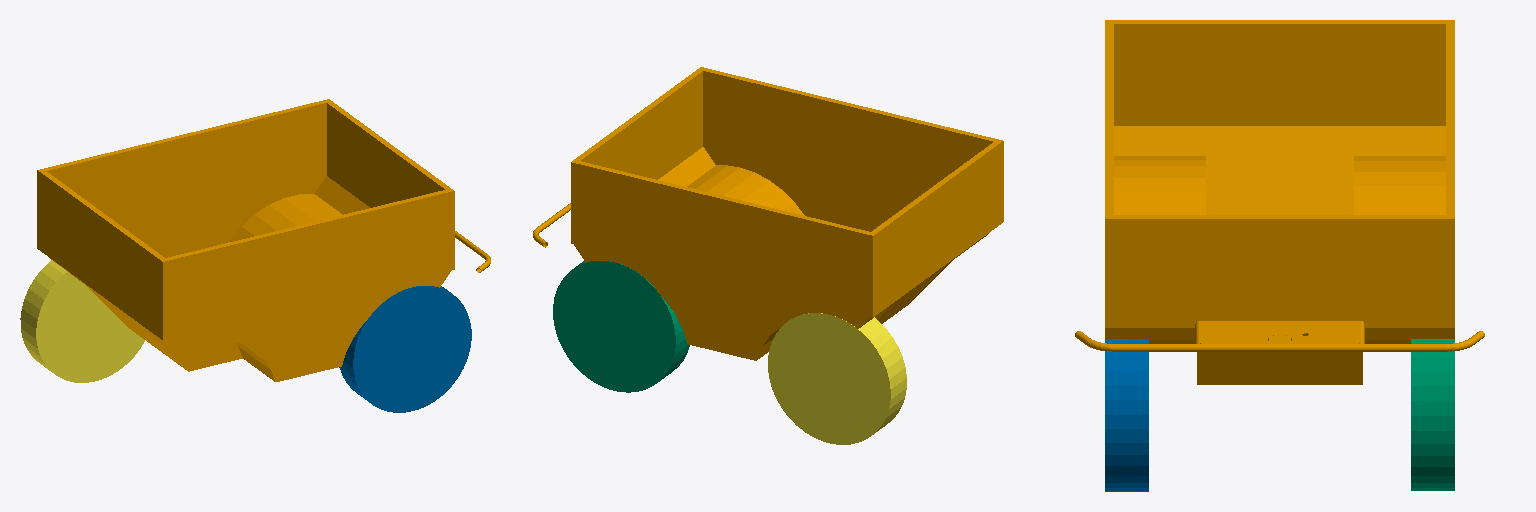
robot.urdf — nav_simplified_model:
<?xml version="1.0" encoding="utf-8"?>
<robot name="nav_simplified_model">
  <!-- Updated URDF with mass, inertia, collision volumes, wheel friction and constraints -->
  <link name="body">
    <inertial>
      <origin xyz="0 0 -0.05" rpy="0 0 0"/>
      <mass value="20"/>
      <inertia ixx="0.5" ixy="0" ixz="0" iyy="0.8" iyz="0" izz="0.5"/>
    </inertial>
    <visual>
      <geometry><mesh filename="package://nav_simplified_model/meshes/base_link.STL"/></geometry>
    </visual>
    <collision>
      <origin xyz="0 0 0.1" rpy="0 0 0"/>
      <geometry><box size="1.0 0.7 0.3"/></geometry>
    </collision>
  </link>

  <!-- ROS navigation friendly base frame -->
  <link name="base_link"/>
  <joint name="body_to_base_link_joint" type="fixed">
    <origin xyz="0 0 0" rpy="0 0 0"/>
    <parent link="body"/>
    <child link="base_link"/>
  </joint>

  <!-- wheel template values -->
  <!-- Each wheel has friction, rolling resistance, steering constraint -->

  <!-- 前左轮 (wheel1) -->
  <link name="wheel1_Link">
    <inertial>
      <origin xyz="0 0 0" rpy="0 0 0"/>
      <mass value="2.5"/>
      <inertia ixx="0.01" ixy="0" ixz="0" iyy="0.02" iyz="0" izz="0.01"/>
    </inertial>
    <visual><geometry><mesh filename="package://nav_simplified_model/meshes/wheel1_Link.STL"/></geometry></visual>
    <collision>
      <origin xyz="0 0 0" rpy="1.5708 0 0"/>
      <!-- 修正：碰撞半径改为0.26m -->
      <geometry><cylinder radius="0.26" length="0.06"/></geometry>
    </collision>
  </link>

  <joint name="wheel1_joint" type="continuous">
    <origin xyz="0.45474 0.4775 0" rpy="0 0 0"/>
    <parent link="body"/>
    <child link="wheel1_Link"/>
    <!-- 修正：右侧车轮axis应该是正方向 -->
    <axis xyz="0 1 0"/>
    <limit effort="100" velocity="20"/>
    <dynamics damping="0.01" friction="0.0"/>
  </joint>

  <!-- 后左轮 (wheel2) -->
  <link name="wheel2_Link">
    <inertial>
      <origin xyz="0 0 0" rpy="0 0 0"/>
      <mass value="2.5"/>
      <inertia ixx="0.01" ixy="0" ixz="0" iyy="0.02" iyz="0" izz="0.01"/>
    </inertial>
    <visual><geometry><mesh filename="package://nav_simplified_model/meshes/wheel2_Link.STL"/></geometry></visual>
    <collision>
      <origin xyz="0 0 0" rpy="1.5708 0 0"/>
      <!-- 修正：碰撞半径改为0.26m -->
      <geometry><cylinder radius="0.26" length="0.06"/></geometry>
    </collision>
  </link>

  <joint name="wheel2_joint" type="continuous">
    <origin xyz="-0.45372 0.4775 0" rpy="0 0 0"/>
    <parent link="body"/>
    <child link="wheel2_Link"/>
    <!-- 修正：右侧车轮axis应该是正方向 -->
    <axis xyz="0 1 0"/>
    <limit effort="100" velocity="20"/>
    <dynamics damping="0.01" friction="0.0"/>
  </joint>

  <!-- 前右轮 (wheel3) -->
  <link name="wheel3_Link">
    <inertial>
      <origin xyz="0 0 0" rpy="0 0 0"/>
      <mass value="2.5"/>
      <inertia ixx="0.01" ixy="0" ixz="0" iyy="0.02" iyz="0" izz="0.01"/>
    </inertial>
    <visual><geometry><mesh filename="package://nav_simplified_model/meshes/wheel3_Link.STL"/></geometry></visual>
    <collision>
      <origin xyz="0 0 0" rpy="1.5708 0 0"/>
      <!-- 修正：碰撞半径改为0.26m -->
      <geometry><cylinder radius="0.26" length="0.06"/></geometry>
    </collision>
  </link>

  <joint name="wheel3_joint" type="continuous">
    <origin xyz="0.45474 -0.4775 0" rpy="0 0 0"/>
    <parent link="body"/>
    <child link="wheel3_Link"/>
    <!-- 修正：右侧车轮axis应该是正方向 -->
    <axis xyz="0 1 0"/>
    <limit effort="100" velocity="20"/>
    <dynamics damping="0.01" friction="0.0"/>
  </joint>

  <!-- 后右轮 (wheel4) -->
  <link name="wheel4_Link">
    <inertial>
      <origin xyz="0 0 0" rpy="0 0 0"/>
      <mass value="2.5"/>
      <inertia ixx="0.01" ixy="0" ixz="0" iyy="0.02" iyz="0" izz="0.01"/>
    </inertial>
    <visual><geometry><mesh filename="package://nav_simplified_model/meshes/wheel4_Link.STL"/></geometry></visual>
    <collision>
      <origin xyz="0 0 0" rpy="1.5708 0 0"/>
      <!-- 修正：碰撞半径改为0.26m -->
      <geometry><cylinder radius="0.26" length="0.06"/></geometry>
    </collision>
  </link>

  <joint name="wheel4_joint" type="continuous">
    <origin xyz="-0.45372 -0.4775 0" rpy="0 0 0"/>
    <parent link="body"/>
    <child link="wheel4_Link"/>
    <!-- 修正：右侧车轮axis应该是正方向 -->
    <axis xyz="0 1 0"/>
    <limit effort="100" velocity="20"/>
    <dynamics damping="0.01" friction="0.0"/>
  </joint>

  <!-- lidar -->
  <link name="lidar_Link">
    <inertial>
      <origin xyz="0 0 0" rpy="0 0 0"/>
      <mass value="0.15"/>
      <inertia ixx="0.00004" ixy="0" ixz="0" iyy="0.00004" iyz="0" izz="0.00007"/>
    </inertial>
    <visual><geometry><mesh filename="package://nav_simplified_model/meshes/lidar_Link.STL"/></geometry></visual>
    <collision><geometry><cylinder radius="0.03" length="0.06"/></geometry></collision>
  </link>

  <joint name="lidar_joint" type="fixed">
    <!-- Visualization alignment: keep lidar frame coincident with body frame -->
    <origin xyz="0 0 0" rpy="0 0 0"/>
    <parent link="body"/>
    <child link="lidar_Link"/>
  </joint>

  <!-- camera -->
  <link name="camera_Link">
    <inertial>
      <origin xyz="0 0 0" rpy="0 0 0"/>
      <mass value="0.5"/>
      <inertia ixx="0.0001" ixy="0" ixz="0" iyy="0.0001" iyz="0" izz="0.0001"/>
    </inertial>
    <visual><geometry><mesh filename="package://nav_simplified_model/meshes/camera_Link.STL"/></geometry></visual>
    <collision><geometry><box size="0.08 0.05 0.05"/></geometry></collision>
  </link>

  <joint name="camera_joint" type="fixed">
    <!-- Visualization alignment: keep camera frame coincident with body frame -->
    <origin xyz="0 0 0" rpy="0 0 0"/>
    <parent link="body"/>
    <child link="camera_Link"/>
  </joint>

  <!-- ==================== Gazebo 插件配置 ==================== -->

  <!-- 轮子摩擦力设置 -->
  <gazebo reference="wheel1_Link">
    <mu1>1.5</mu1>
    <mu2>1.5</mu2>
    <kp>1000000.0</kp>
    <kd>100.0</kd>
    <material>Gazebo/Black</material>
  </gazebo>

  <gazebo reference="wheel2_Link">
    <mu1>1.5</mu1>
    <mu2>1.5</mu2>
    <kp>1000000.0</kp>
    <kd>100.0</kd>
    <material>Gazebo/Black</material>
  </gazebo>

  <gazebo reference="wheel3_Link">
    <mu1>1.5</mu1>
    <mu2>1.5</mu2>
    <kp>1000000.0</kp>
    <kd>100.0</kd>
    <material>Gazebo/Black</material>
  </gazebo>

  <gazebo reference="wheel4_Link">
    <mu1>1.5</mu1>
    <mu2>1.5</mu2>
    <kp>1000000.0</kp>
    <kd>100.0</kd>
    <material>Gazebo/Black</material>
  </gazebo>

  <gazebo reference="body">
    <material>Gazebo/Blue</material>
  </gazebo>

  <!-- lidar sensor output for AMCL and costmaps -->
  <gazebo reference="lidar_Link">
    <sensor name="lidar_sensor" type="ray">
      <pose>0 0 0 0 0 0</pose>
      <visualize>true</visualize>
      <update_rate>10.0</update_rate>
      <ray>
        <scan>
          <horizontal>
            <samples>720</samples>
            <resolution>1</resolution>
            <min_angle>-3.1415926</min_angle>
            <max_angle>3.1415926</max_angle>
          </horizontal>
        </scan>
        <range>
          <min>0.10</min>
          <max>30.0</max>
          <resolution>0.01</resolution>
        </range>
      </ray>
      <plugin name="gazebo_ros_ray_sensor" filename="libgazebo_ros_ray_sensor.so">
        <ros>
          <remapping>~/out:=scan</remapping>
        </ros>
        <output_type>sensor_msgs/LaserScan</output_type>
        <frame_name>lidar_Link</frame_name>
      </plugin>
    </sensor>
  </gazebo>

  <!-- 四轮滑移转向驱动控制器 -->
  <gazebo>
    <plugin name="skid_steer_drive_controller" filename="libgazebo_ros_skid_steer_drive.so">
      <updateRate>50.0</updateRate>
      <robotNamespace>/</robotNamespace>
      
      <!-- 修正后的车轮映射（根据实际位置） -->
      <!-- wheel1: 前左, wheel2: 后左, wheel3: 前右, wheel4: 后右 -->
      <leftFrontJoint>wheel1_joint</leftFrontJoint>
      <rightFrontJoint>wheel3_joint</rightFrontJoint>
      <leftRearJoint>wheel2_joint</leftRearJoint>
      <rightRearJoint>wheel4_joint</rightRearJoint>
      
      <!-- 轮子参数 -->
      <wheelSeparation>0.955</wheelSeparation>
      <!-- 修正：车轮直径改为0.52m（半径0.26m） -->
      <wheelDiameter>0.52</wheelDiameter>
      
      <!-- 扭矩 -->
      <torque>200</torque>
      
      <!-- ROS话题 -->
      <commandTopic>cmd_vel</commandTopic>
      <odometryTopic>odom</odometryTopic>
      
      <!-- 坐标系 -->
      <odometryFrame>odom</odometryFrame>
      <robotBaseFrame>body</robotBaseFrame>
      
      <!-- 里程计发布 -->
      <broadcastTF>true</broadcastTF>
      
      <!-- 协方差 -->
      <covariance_x>0.0001</covariance_x>
      <covariance_y>0.0001</covariance_y>
      <covariance_yaw>0.01</covariance_yaw>
    </plugin>
  </gazebo>

</robot>

--- Render facts (derived) ---
3 views of the same robot in one strip: view 1: azimuth 30°, elevation 25°; view 2: azimuth 150°, elevation 25°; view 3: azimuth 270°, elevation 25° (orthographic).
Robot: nav_simplified_model — 8 links, 7 joints (4 continuous, 3 fixed); root link body; default pose: every joint at zero.
Links seen in each view (by area): view 1: body, wheel3_Link, wheel2_Link; view 2: body, wheel2_Link, wheel1_Link; view 3: body, wheel3_Link, wheel1_Link.
Boxes of the visible links, box(x1,y1,x2,y2) form: body: box(37, 99, 490, 381); wheel3_Link: box(339, 286, 471, 412); wheel2_Link: box(20, 260, 144, 382); body: box(533, 67, 1003, 360); wheel2_Link: box(768, 313, 906, 444); wheel1_Link: box(553, 260, 689, 392); body: box(1075, 20, 1484, 384); wheel3_Link: box(1105, 339, 1148, 491); wheel1_Link: box(1411, 339, 1454, 490).
Size in the robot's own frame: 1.51 by 1.12 by 0.8805 metres.
Meshes: 7 distinct files referenced, 5 mesh visuals loaded (5 binary STL); not drawn: 2 (reference not matched to a file when rendering).
